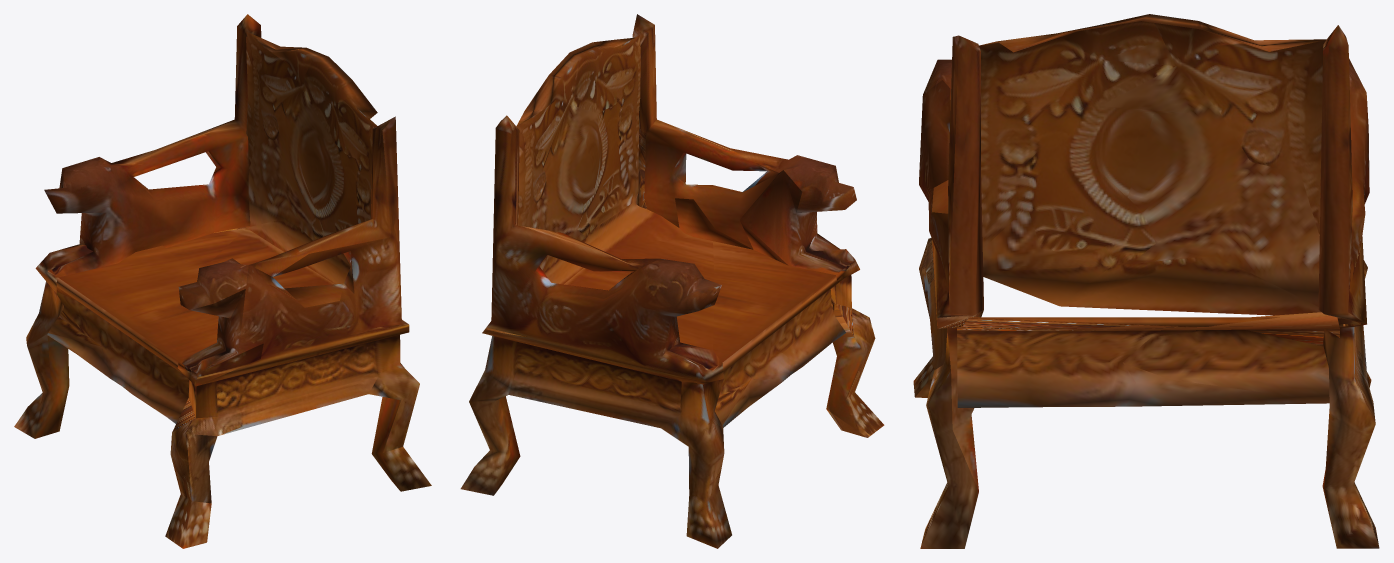
Rendered from chair.glb.
3 views of the same model, side by side, from view 1: azimuth 30°, elevation 25°; view 2: azimuth 150°, elevation 25°; view 3: azimuth 270°, elevation 25° (orthographic). The views are drawn at different scales.
Parts seen in each view (by area): view 1: vietnamese wooden sofa.001_tripo_material_7bc7da5e-dfba-447f; view 2: vietnamese wooden sofa.001_tripo_material_7bc7da5e-dfba-447f; view 3: vietnamese wooden sofa.001_tripo_material_7bc7da5e-dfba-447f.
Part boxes in pixels (x1=…): vietnamese wooden sofa.001_tripo_material_7bc7da5e-dfba-447f: x1=14, y1=14, x2=431, y2=548; vietnamese wooden sofa.001_tripo_material_7bc7da5e-dfba-447f: x1=460, y1=14, x2=884, y2=548; vietnamese wooden sofa.001_tripo_material_7bc7da5e-dfba-447f: x1=913, y1=14, x2=1379, y2=548.
Size of the model in its own units: 0.9136 by 1.29 by 1.07.
1 material, 1 textured.
